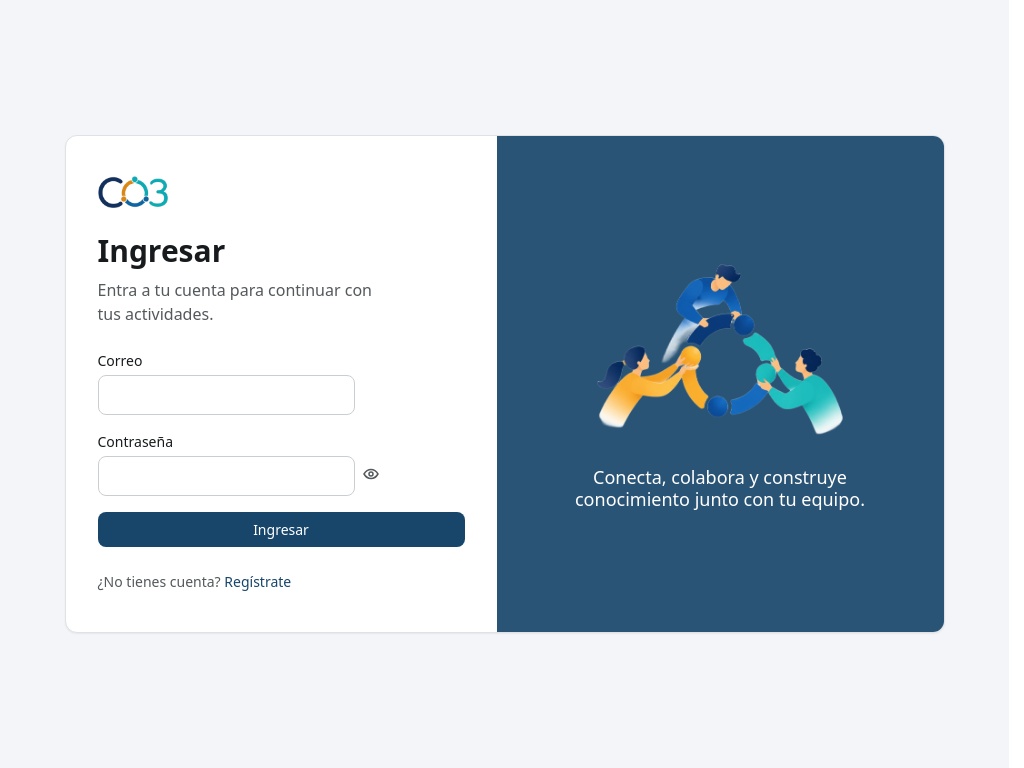
PantallaIngresar › muestra un aviso cuando el servidor rechaza las credenciales
In the field labelled "Correo": (226, 394) [98,374,354,414], type "ana@example.com"
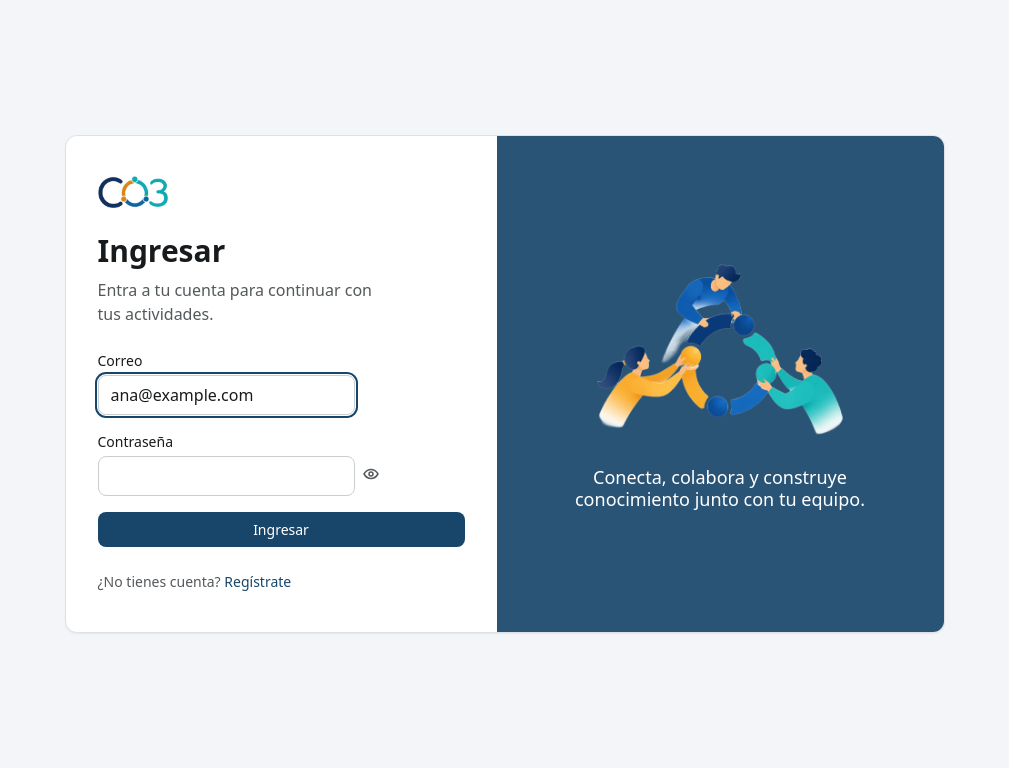
In the password field labelled "Contraseña": (226, 476) [98,456,354,496], type "clave1234"
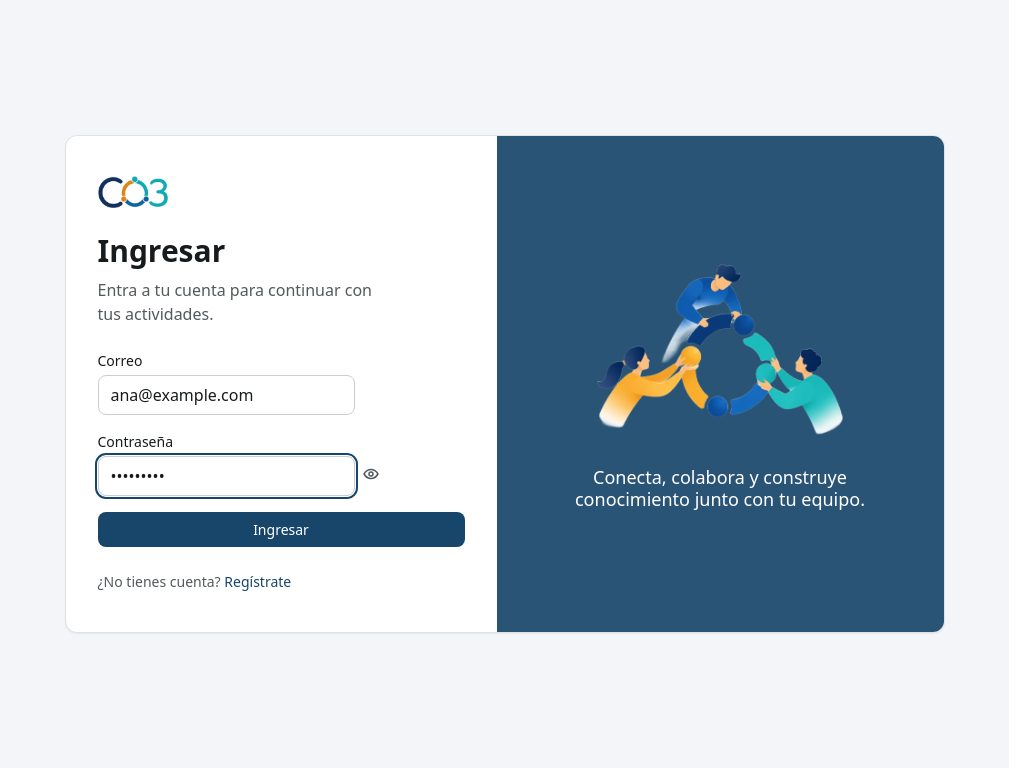
Click the button "Ingresar": (281, 529) [98,512,464,547]
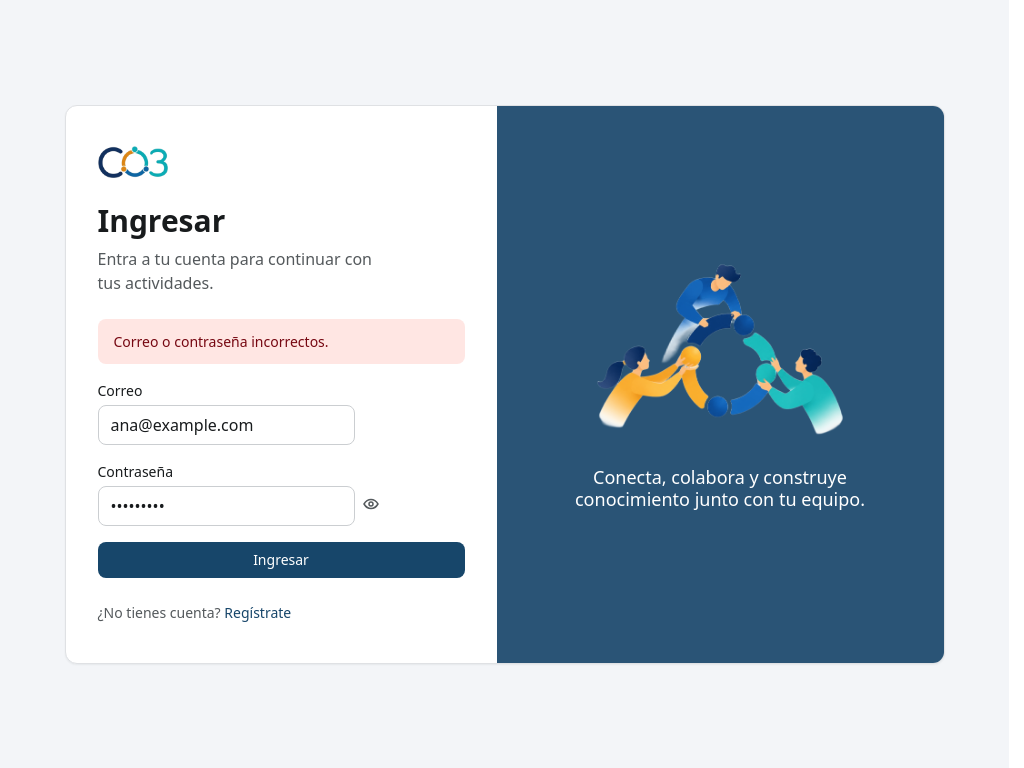
Now the message reads "Correo o contraseña incorrectos.", box [114,332,329,351]
